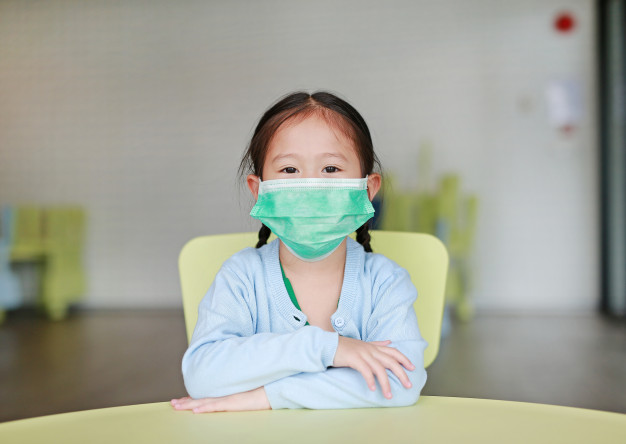surgical: (248, 173, 377, 262)
